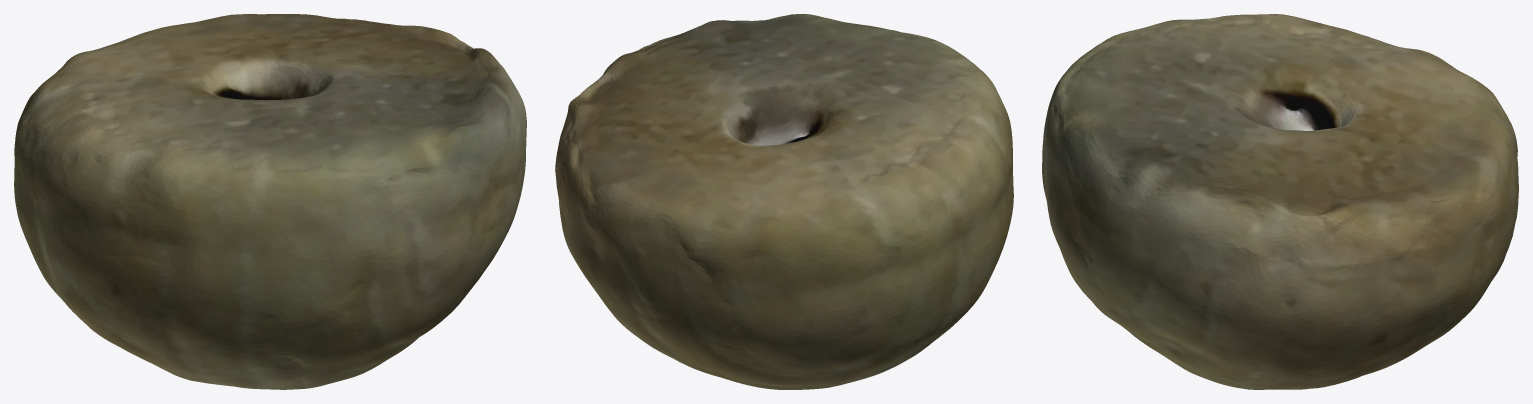
3 views of the same model, side by side, from view 1: azimuth 30°, elevation 25°; view 2: azimuth 150°, elevation 25°; view 3: azimuth 270°, elevation 25° (orthographic). The views are drawn at different scales.
Parts seen in each view (by area): view 1: Mesh_0.013; view 2: Mesh_0.013; view 3: Mesh_0.013.
Boxes of the visible parts, bbox=[...] form: Mesh_0.013: bbox=[14, 14, 526, 389]; Mesh_0.013: bbox=[555, 14, 1013, 389]; Mesh_0.013: bbox=[1042, 14, 1518, 389].
Size of the model in its own units: 0.1396 by 0.0877 by 0.1378.
1 material, 1 textured.
